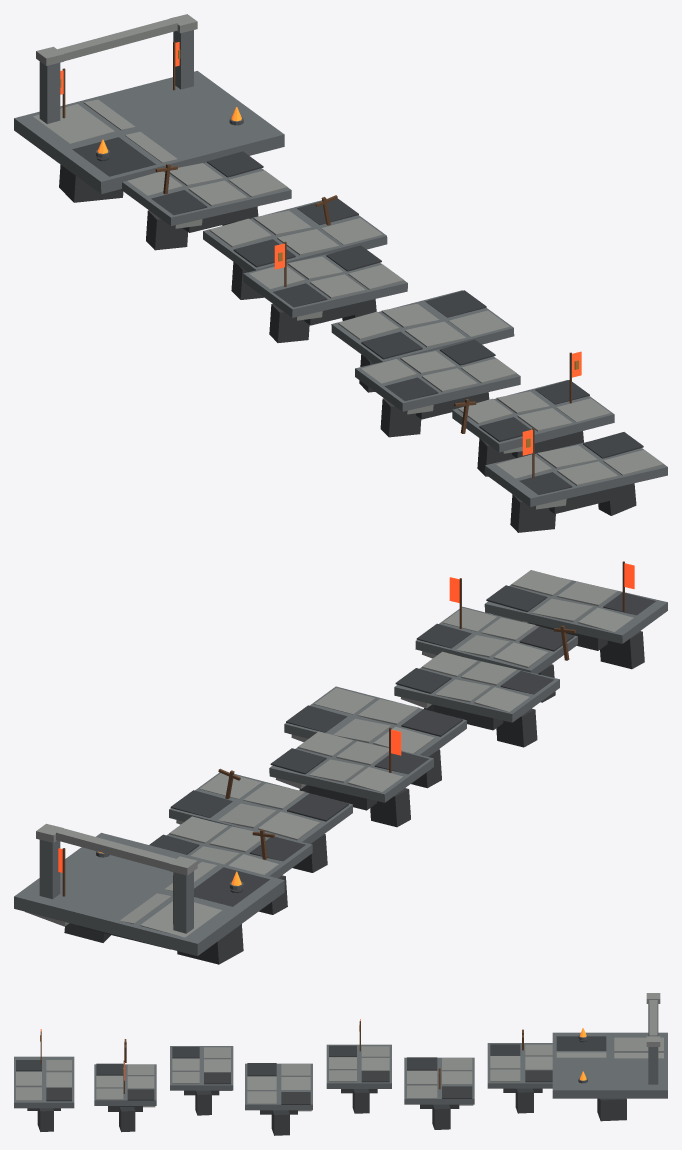
The model's file is saint_broken_siege_rubble_bridge.glb.
3 views of the same model, one above another, from view 1: azimuth 30°, elevation 25°; view 2: azimuth 150°, elevation 25°; view 3: azimuth 270°, elevation 25° (orthographic). The views are drawn at different scales.
Visible parts, largest first — view 1: Rubble Platform 08 base, Rubble Platform 01 base, Rubble Platform 07 base, Rubble Platform 03 base, Rubble Platform 05 base, Rubble Platform 04 base, Rubble Platform 02 base, Rubble Platform 06 base, Final landing broken lintel, Platform 08 top slab 0_0, Platform 08 top slab 1_0, Final landing gate post L (+44 smaller); view 2: Rubble Platform 08 base, Rubble Platform 01 base, Rubble Platform 03 base, Rubble Platform 05 base, Rubble Platform 06 base, Rubble Platform 02 base, Rubble Platform 04 base, Final landing broken lintel, Platform 08 top slab 0_0, Rubble Platform 07 base, Final landing gate post L, Final landing gate post R (+47 smaller); view 3: Rubble Platform 08 base, Rubble Platform 01 base, Rubble Platform 05 base, Rubble Platform 06 base, Rubble Platform 04 base, Rubble Platform 07 base, Rubble Platform 03 base, Rubble Platform 02 base, Platform 08 top slab 0_0, Platform 08 hanging shard 1, Platform 08 top slab 1_0, Platform 06 hanging shard 1 (+52 smaller).
Part boxes in pixels (x1,y1,x2,y2): Rubble Platform 08 base: [14, 71, 284, 194]; Rubble Platform 01 base: [484, 441, 667, 506]; Rubble Platform 07 base: [121, 162, 291, 225]; Rubble Platform 03 base: [355, 348, 520, 411]; Rubble Platform 05 base: [243, 253, 407, 317]; Rubble Platform 04 base: [331, 290, 514, 363]; Rubble Platform 02 base: [452, 380, 614, 452]; Rubble Platform 06 base: [203, 200, 387, 272]; Final landing broken lintel: [57, 18, 177, 61]; Platform 08 top slab 0_0: [72, 137, 155, 176]; Platform 08 top slab 1_0: [33, 104, 114, 143]; Final landing gate post L: [39, 61, 60, 123]; Rubble Platform 08 base: [14, 832, 284, 955]; Rubble Platform 01 base: [484, 578, 667, 643]; Rubble Platform 03 base: [394, 657, 559, 722]; Rubble Platform 05 base: [269, 737, 433, 802]; Rubble Platform 06 base: [169, 772, 352, 843]; Rubble Platform 02 base: [415, 606, 577, 673]; Rubble Platform 04 base: [284, 686, 466, 756]; Final landing broken lintel: [56, 828, 175, 870]; Platform 08 top slab 0_0: [194, 867, 269, 906]; Rubble Platform 07 base: [167, 821, 312, 878]; Final landing gate post L: [173, 871, 193, 933]; Final landing gate post R: [39, 840, 60, 899]; Rubble Platform 08 base: [552, 1032, 667, 1098]; Rubble Platform 01 base: [14, 1056, 74, 1108]; Rubble Platform 05 base: [326, 1044, 391, 1088]; Rubble Platform 06 base: [404, 1057, 474, 1104]; Rubble Platform 04 base: [245, 1063, 312, 1110]; Rubble Platform 07 base: [487, 1043, 552, 1088]; Rubble Platform 03 base: [170, 1046, 233, 1090]; Rubble Platform 02 base: [94, 1064, 156, 1105]; Platform 08 top slab 0_0: [556, 1036, 606, 1050]; Platform 08 hanging shard 1: [597, 1098, 626, 1121]; Platform 08 top slab 1_0: [614, 1037, 663, 1051]; Platform 06 hanging shard 1: [432, 1104, 450, 1129].
Size of the model in its own units: 14.01 by 10.86 by 65.15.
